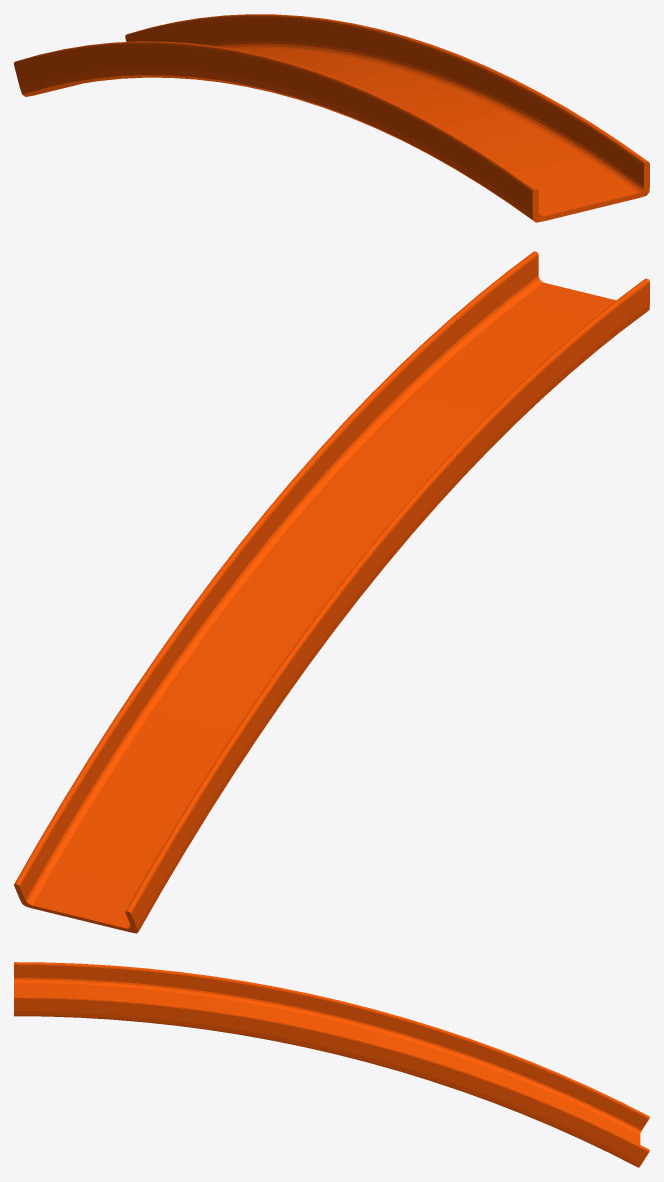
The model's file is Descida 30.FBX.
The picture shows the model from 3 angles, top to bottom: view 1: azimuth 30°, elevation 25°; view 2: azimuth 150°, elevation 25°; view 3: azimuth 270°, elevation 25°; orthographic projection. The views are drawn at different scales.
Parts seen in each view (by area): view 1: Descida 30; view 2: Descida 30; view 3: Descida 30.
Part boxes in pixels (x1,y1,x2,y2): Descida 30: [14, 14, 649, 222]; Descida 30: [14, 251, 649, 933]; Descida 30: [14, 962, 649, 1167].
Bounding box in the file's own units: 250 × 574 × 1920.
